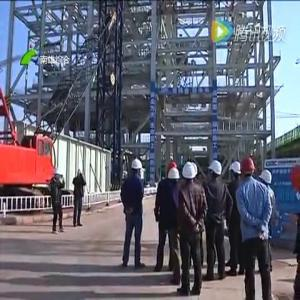red: (243, 156, 256, 182)
white: (183, 162, 196, 186), (209, 159, 223, 181), (260, 170, 273, 189), (231, 160, 242, 182), (169, 167, 181, 186), (132, 159, 143, 177)
